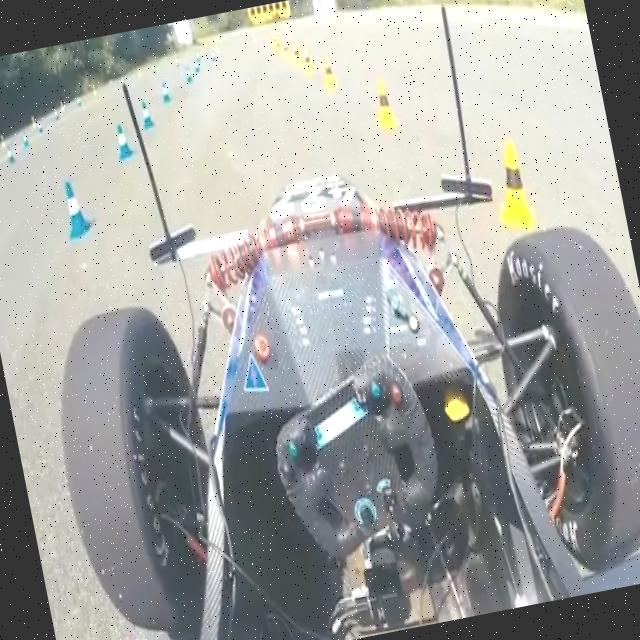blue_cone: (49, 165, 108, 239), (104, 113, 140, 162), (132, 85, 162, 132)
yellow_cone: (486, 120, 556, 262), (368, 74, 414, 141), (314, 42, 346, 93)
